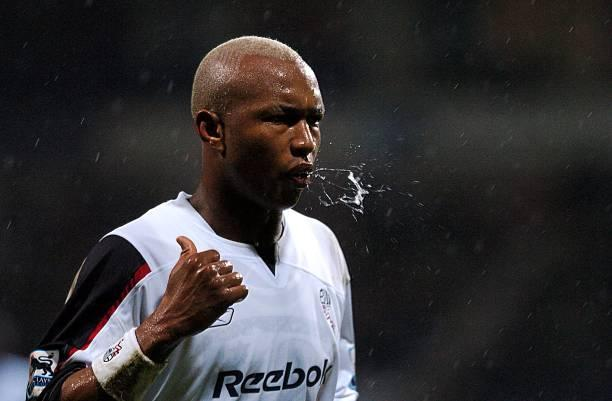Spitting: (174, 21, 390, 231)
